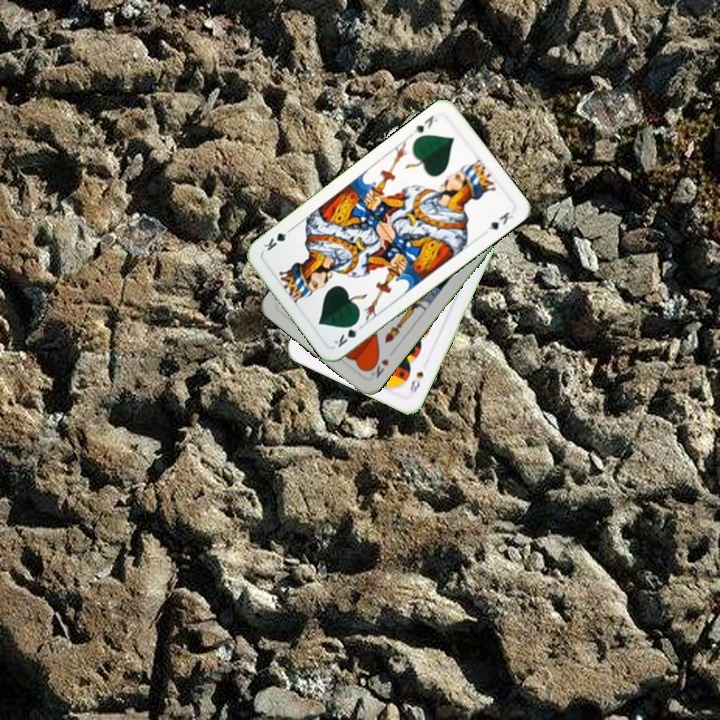GK: (330, 317, 366, 350), (409, 111, 441, 136)
HK: (364, 353, 391, 381)
S8: (406, 367, 426, 399)
